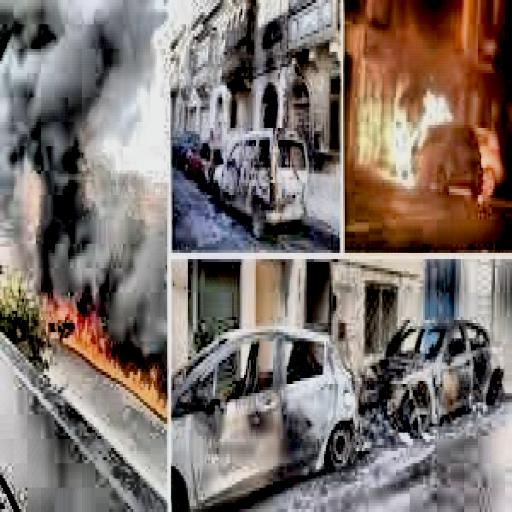fire: (43, 284, 164, 420), (389, 79, 500, 201)
